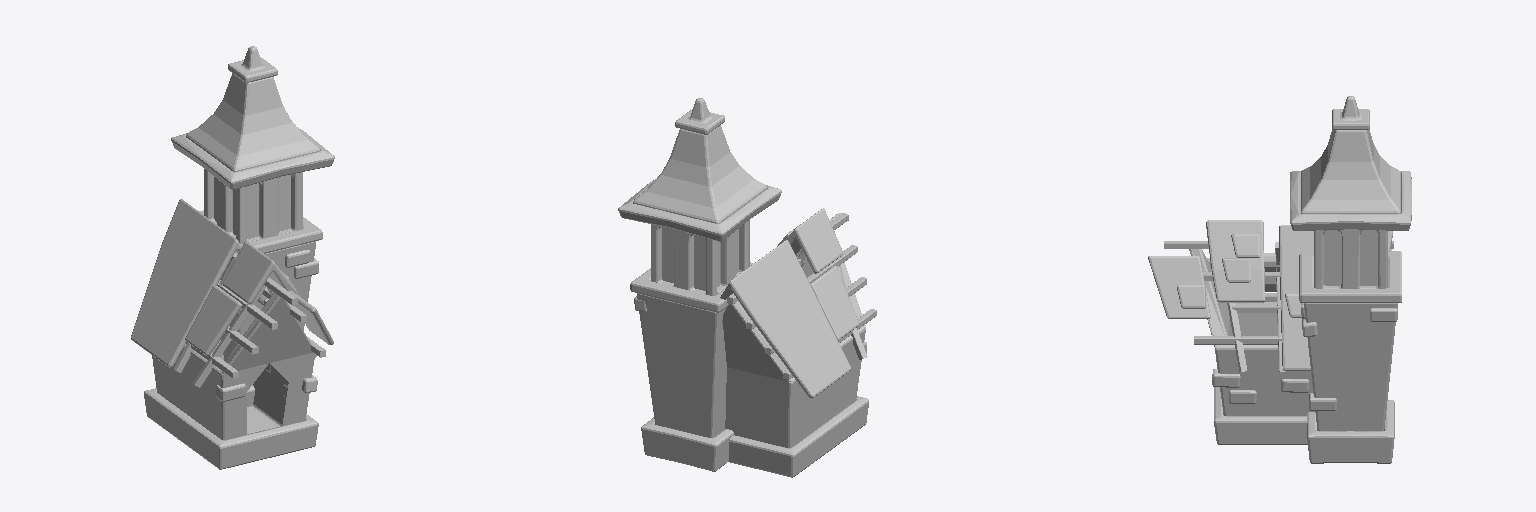
The model's file is SpookyHouseHigh.obj.
3 renders of one model, left to right at view 1: azimuth 30°, elevation 25°; view 2: azimuth 150°, elevation 25°; view 3: azimuth 270°, elevation 25°, orthographic.
Visible parts, largest first — view 1: Plane.054, Plane.060, Plane.061, Plane.046, Plane.052, Plane.042, Plane.048, Plane.047, Plane.059; view 2: Plane.060, Plane.054, Plane.061, Plane.046, Plane.045, Plane.042, Plane.052, Plane.047, Plane.048, Plane.059; view 3: Plane.060, Plane.054, Plane.061, Plane.045, Plane.052, Plane.042, Plane.046, Plane.047, Plane.048, Plane.059, Plane.037, Plane.036 (+1 smaller).
Part boxes in pixels (x1,y1,x2,y2): Plane.054: (131,199,333,367); Plane.060: (186,73,319,360); Plane.061: (152,293,314,439); Plane.046: (144,388,318,469); Plane.052: (173,253,325,387); Plane.042: (171,127,334,189); Plane.048: (214,175,290,238); Plane.047: (199,210,322,253); Plane.059: (228,46,277,82); Plane.060: (633,125,766,437); Plane.054: (720,208,858,398); Plane.061: (723,231,865,447); Plane.046: (728,396,868,477); Plane.045: (641,417,733,471); Plane.042: (618,179,781,241); Plane.052: (722,213,876,379); Plane.047: (630,262,753,312); Plane.048: (662,226,738,290); Plane.059: (675,98,724,134); Plane.060: (1301,129,1400,430); Plane.054: (1148,220,1392,370); Plane.061: (1189,249,1391,415); Plane.045: (1307,400,1394,463); Plane.052: (1164,241,1393,372); Plane.042: (1290,171,1411,230); Plane.046: (1214,387,1307,444); Plane.047: (1299,251,1401,302); Plane.048: (1324,230,1377,285); Plane.059: (1332,96,1369,129); Plane.037: (1222,258,1250,282); Plane.036: (1177,285,1205,308).
Size of the model in its own units: 4.31 by 8.43 by 5.76.